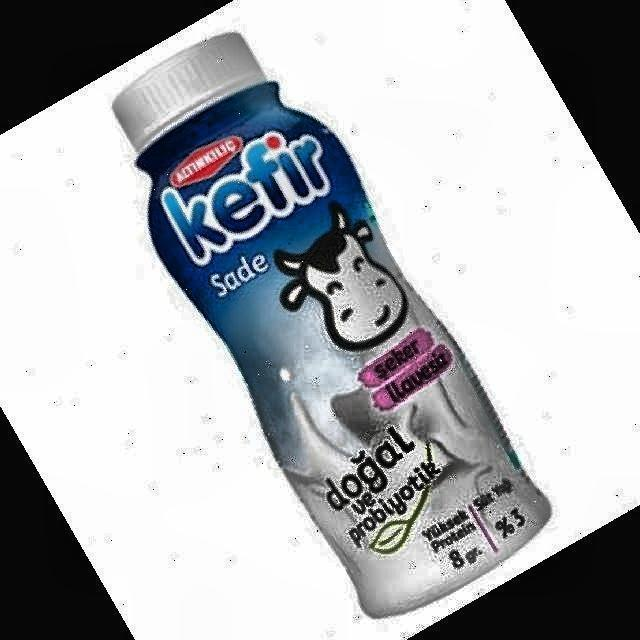plastic: (114, 34, 550, 616)
